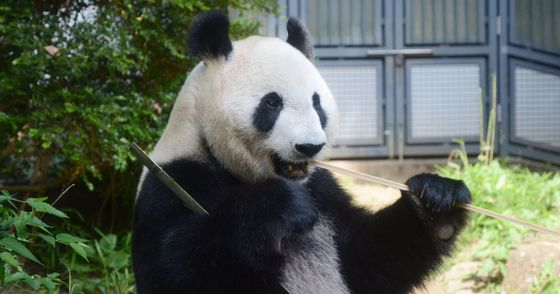panda: (137, 2, 477, 294)
